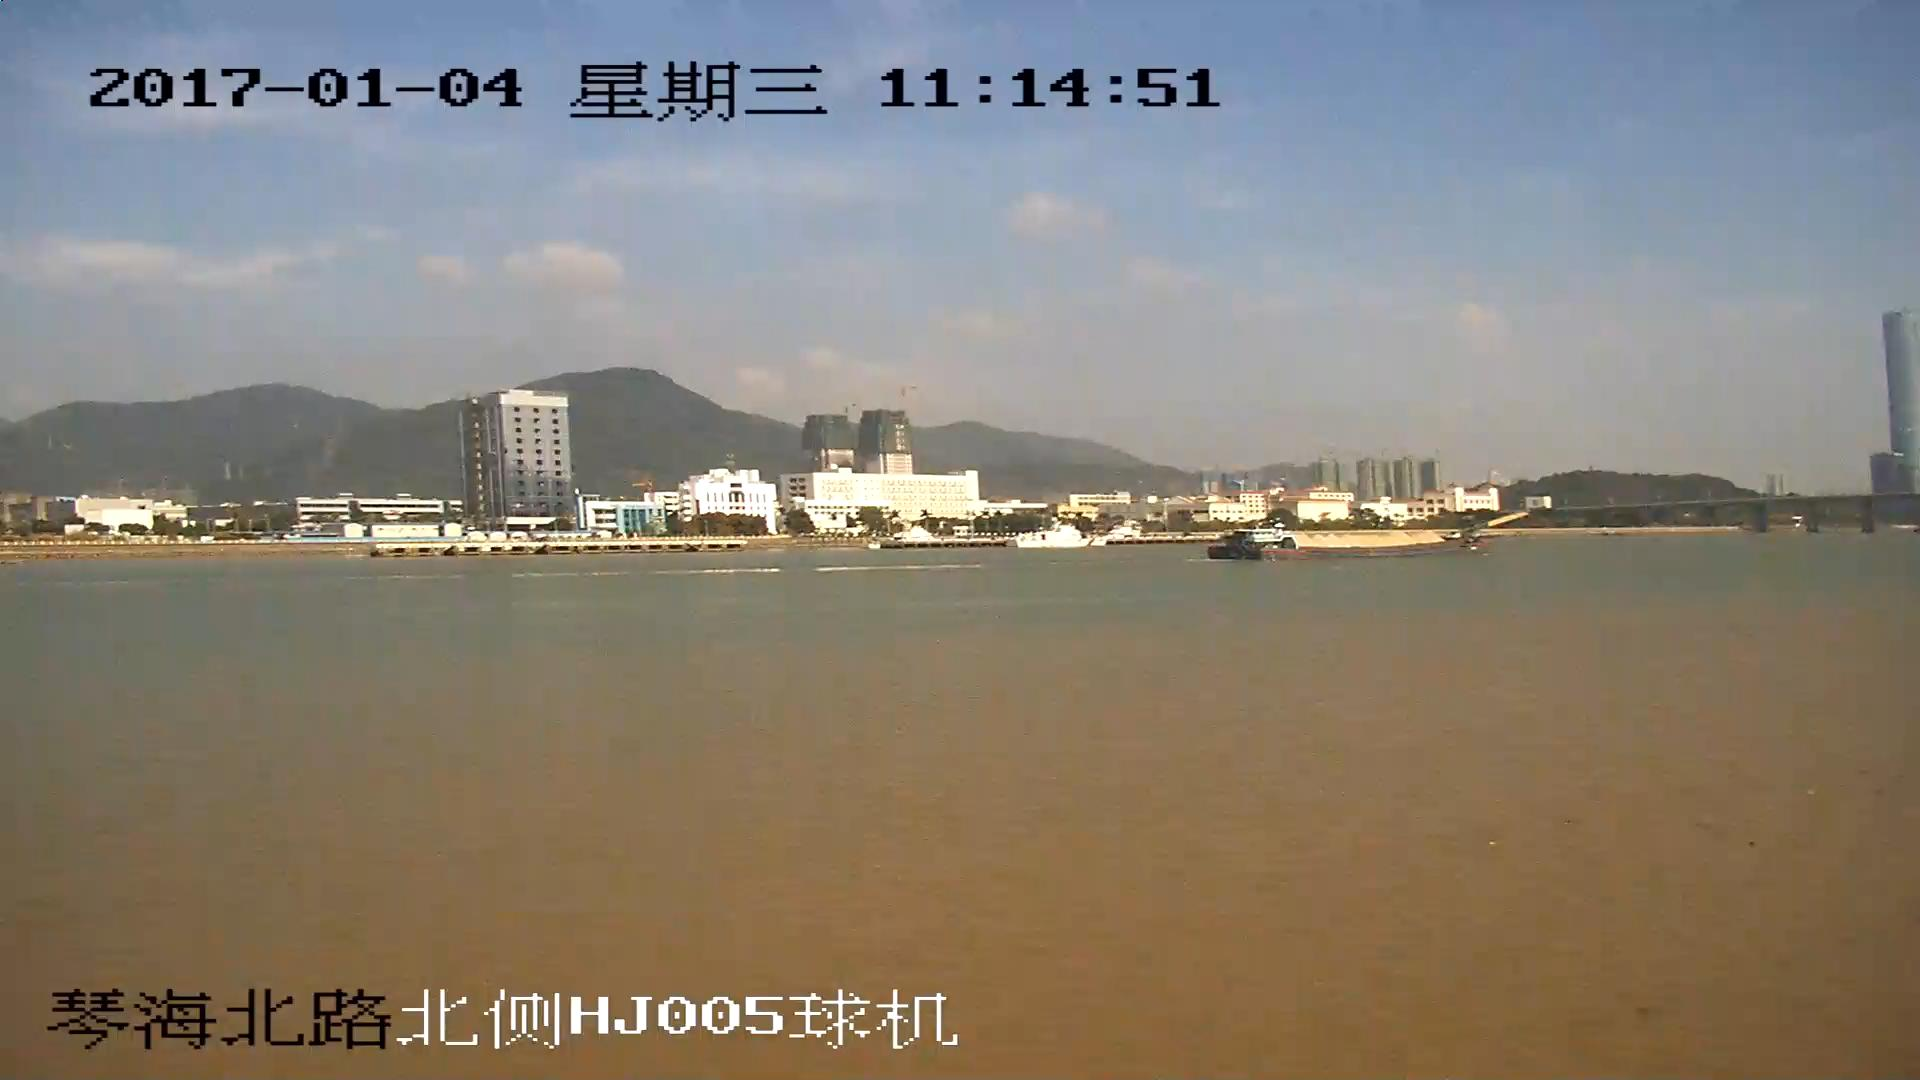ore carrier: (1208, 512, 1523, 565)
